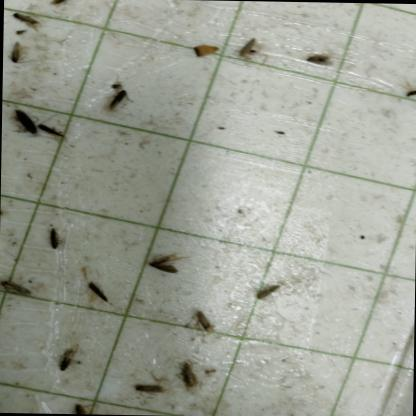prays_oleae: (244, 273, 286, 312), (231, 30, 261, 82), (36, 110, 68, 153), (175, 354, 204, 398), (101, 85, 136, 120), (0, 270, 32, 308), (144, 253, 182, 284), (50, 342, 81, 380), (13, 108, 40, 148), (130, 376, 168, 400), (190, 306, 218, 334), (10, 8, 40, 34), (84, 272, 106, 304), (42, 222, 62, 256), (9, 37, 25, 77), (403, 68, 416, 114), (304, 53, 330, 73), (70, 400, 98, 413), (47, 0, 76, 6), (0, 198, 4, 237)
